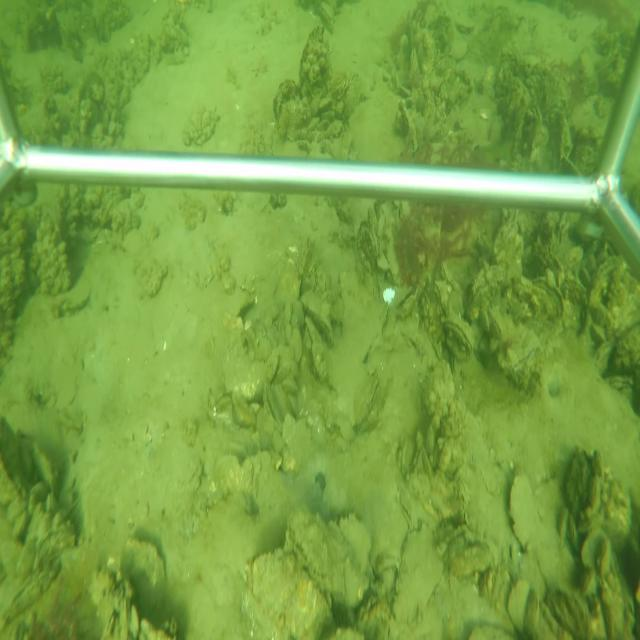Oyster-Closed: (285, 509, 376, 607), (386, 520, 446, 637), (444, 313, 474, 358), (530, 280, 563, 320), (306, 315, 325, 384), (261, 384, 285, 430), (399, 493, 419, 532), (588, 472, 603, 515), (409, 32, 420, 80), (592, 448, 606, 481), (490, 312, 504, 340)
Oyster-Indeterminate: (245, 549, 336, 637), (507, 470, 572, 580), (119, 531, 167, 615)
Oyster-Open: (396, 278, 425, 318)
